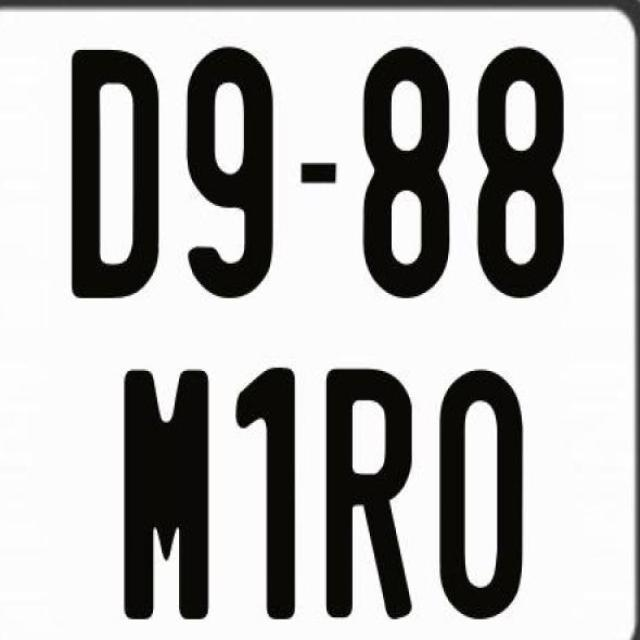license-plate: (4, 8, 629, 640)
